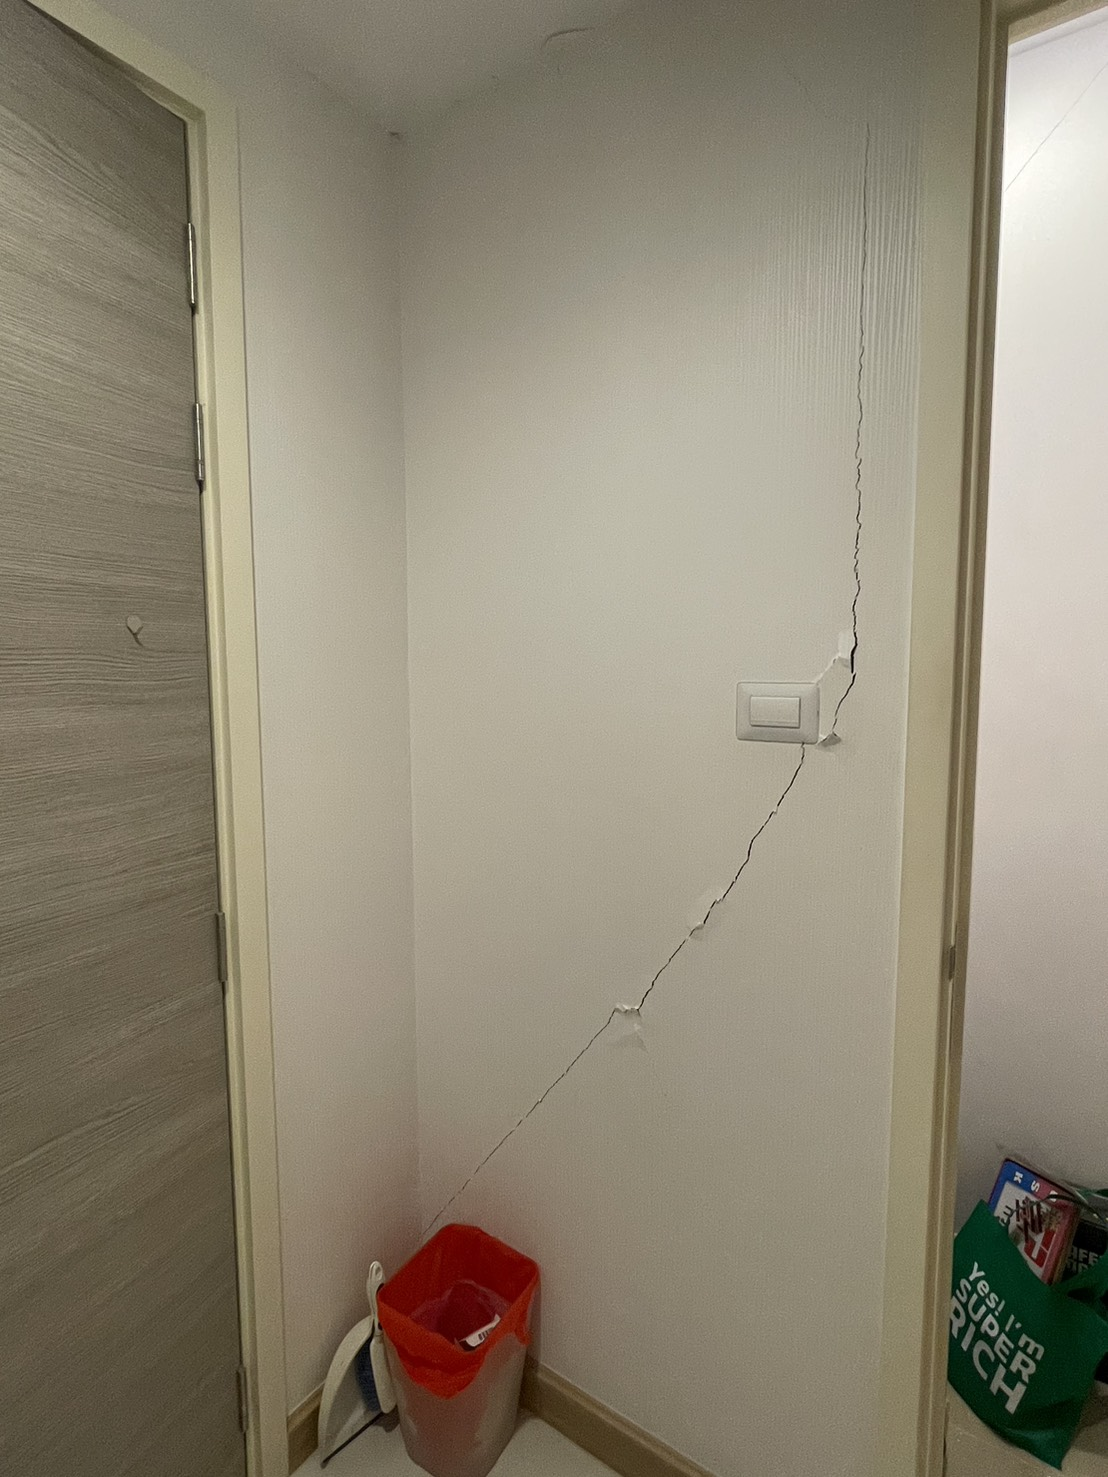Medium: (812, 372, 914, 762)
